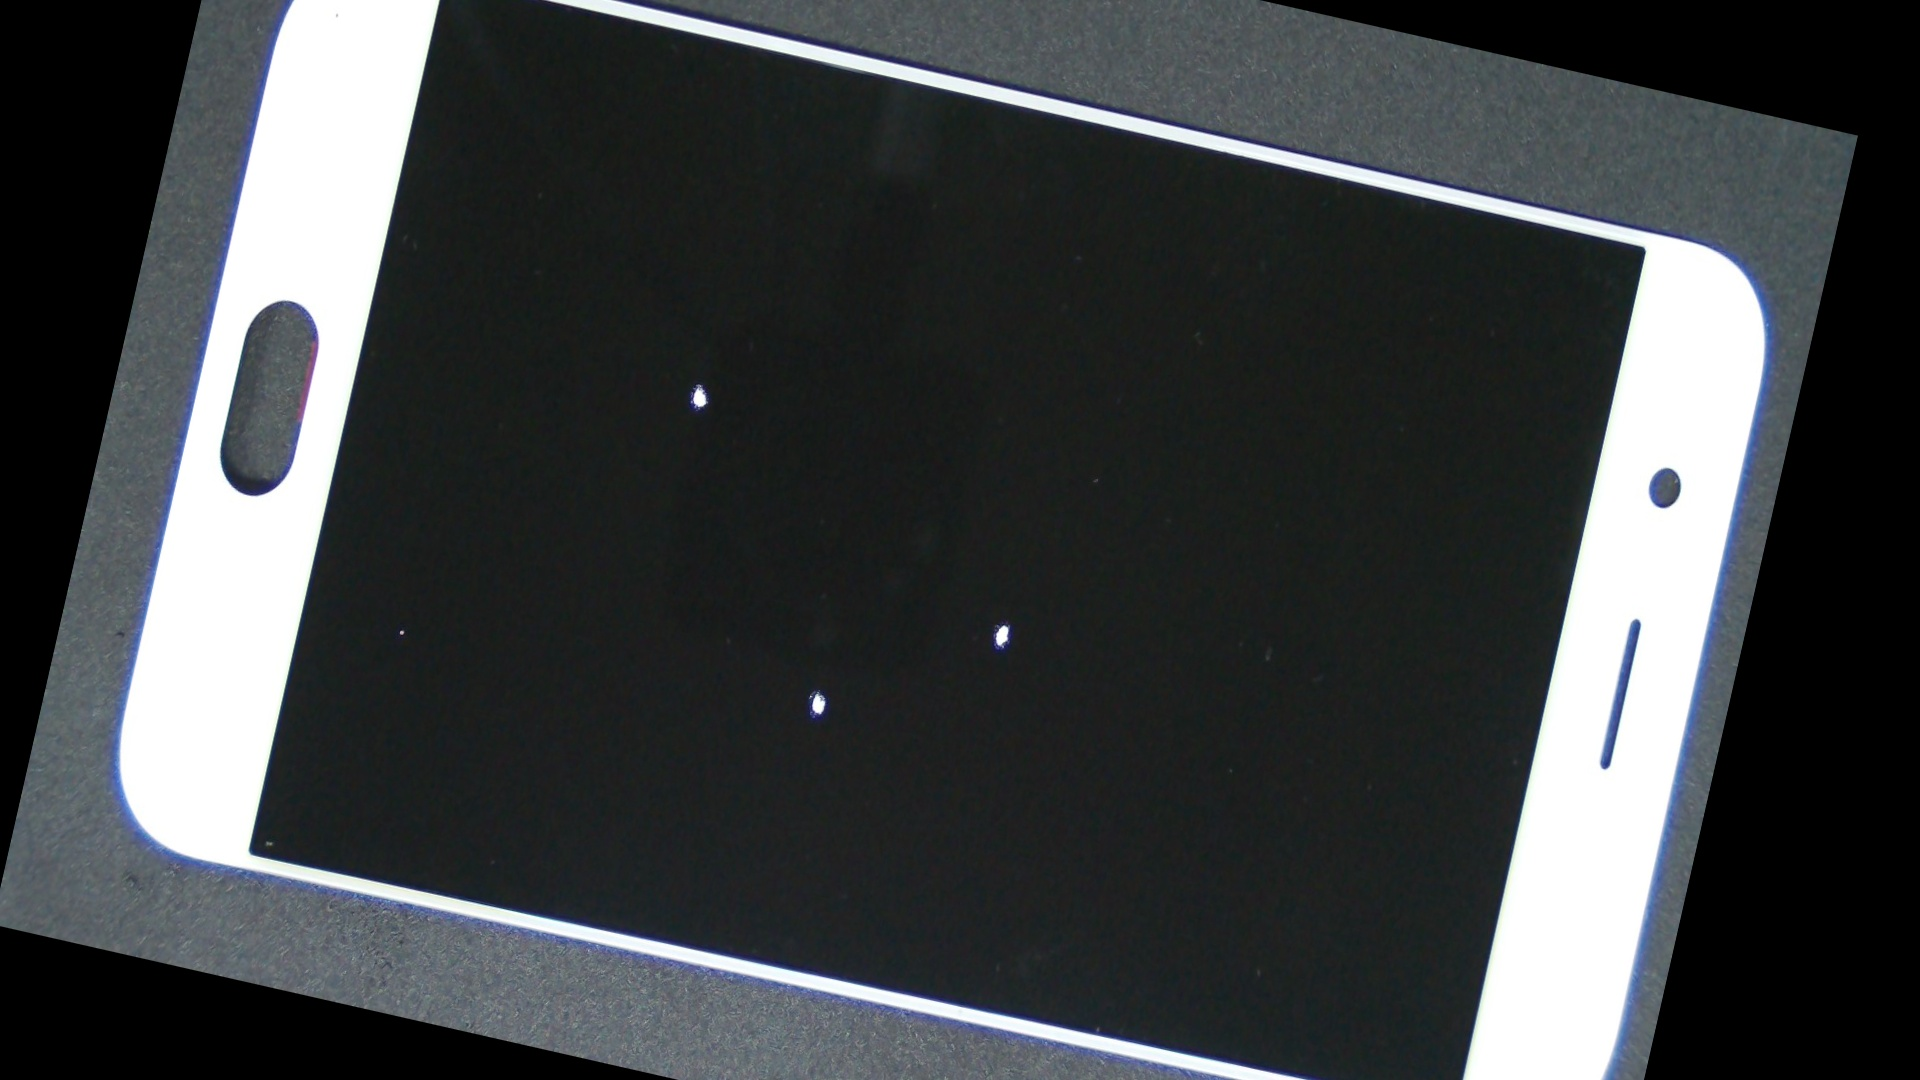oil: (484, 195, 1528, 1043), (367, 229, 1273, 1080), (367, 76, 1033, 688)
